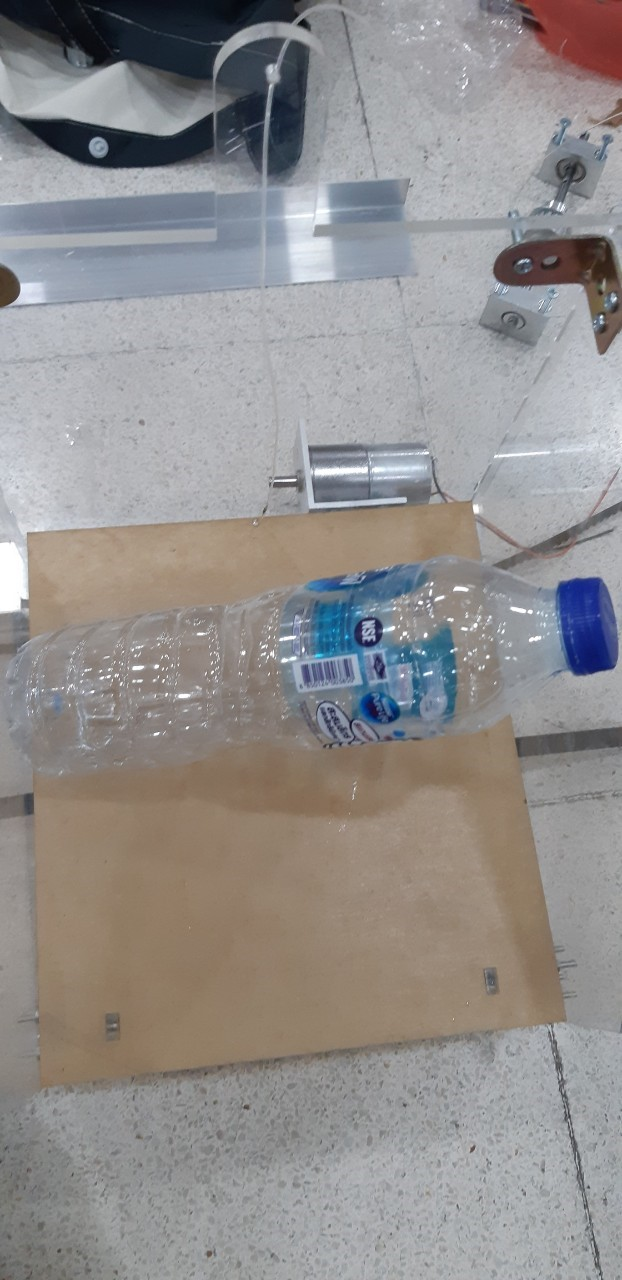PlasticBottle: (2, 565, 620, 777)
